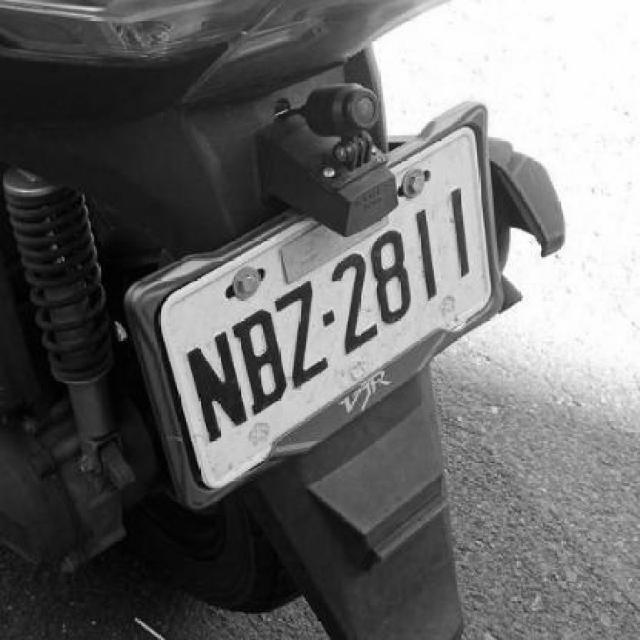-: (318, 305, 338, 329)
1: (412, 206, 438, 301), (447, 184, 469, 277)
2: (328, 250, 377, 356)
8: (368, 227, 411, 324)
B: (228, 303, 287, 416)
N: (184, 327, 248, 442)
Z: (272, 277, 328, 389)
